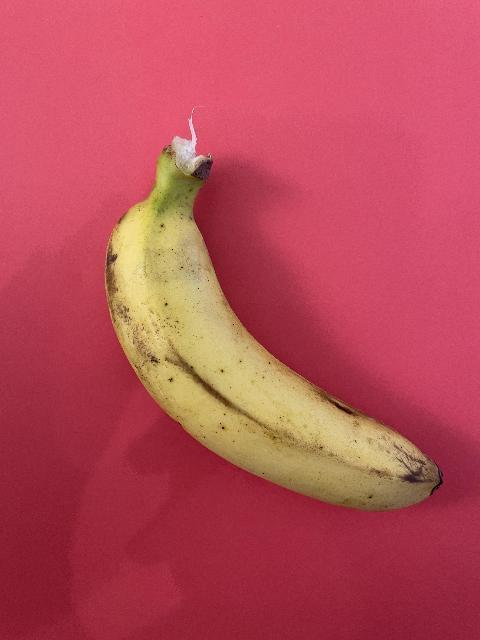banana: (104, 137, 446, 517)
